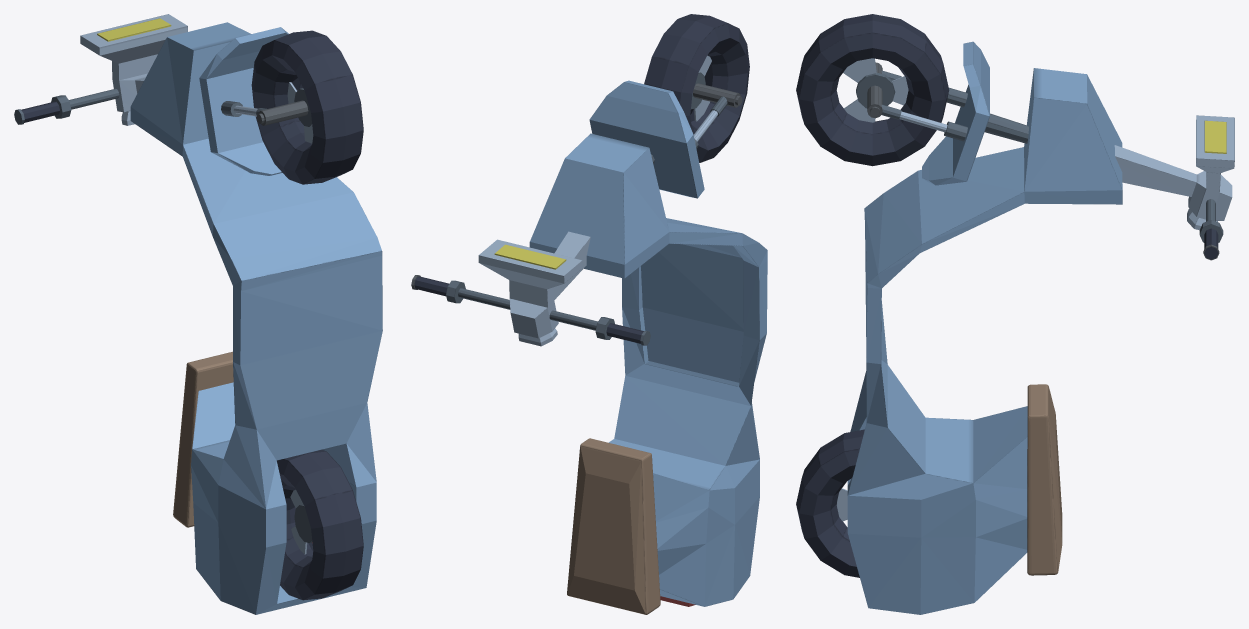
The model's file is scooter.dae.
3 renders of one model, left to right at view 1: azimuth 30°, elevation 25°; view 2: azimuth 150°, elevation 25°; view 3: azimuth 270°, elevation 25°, orthographic. The views are drawn at different scales.
Visible parts, largest first — view 1: scooter; view 2: scooter; view 3: scooter.
Boxes of the visible parts, x1,y1,x2,y2 form: scooter: (14, 14, 382, 614); scooter: (411, 14, 767, 614); scooter: (796, 14, 1234, 614).
Bounding box in the file's own units: 1.35 × 2.14 × 3.05.
Materials: 1 (1 with a texture image).
